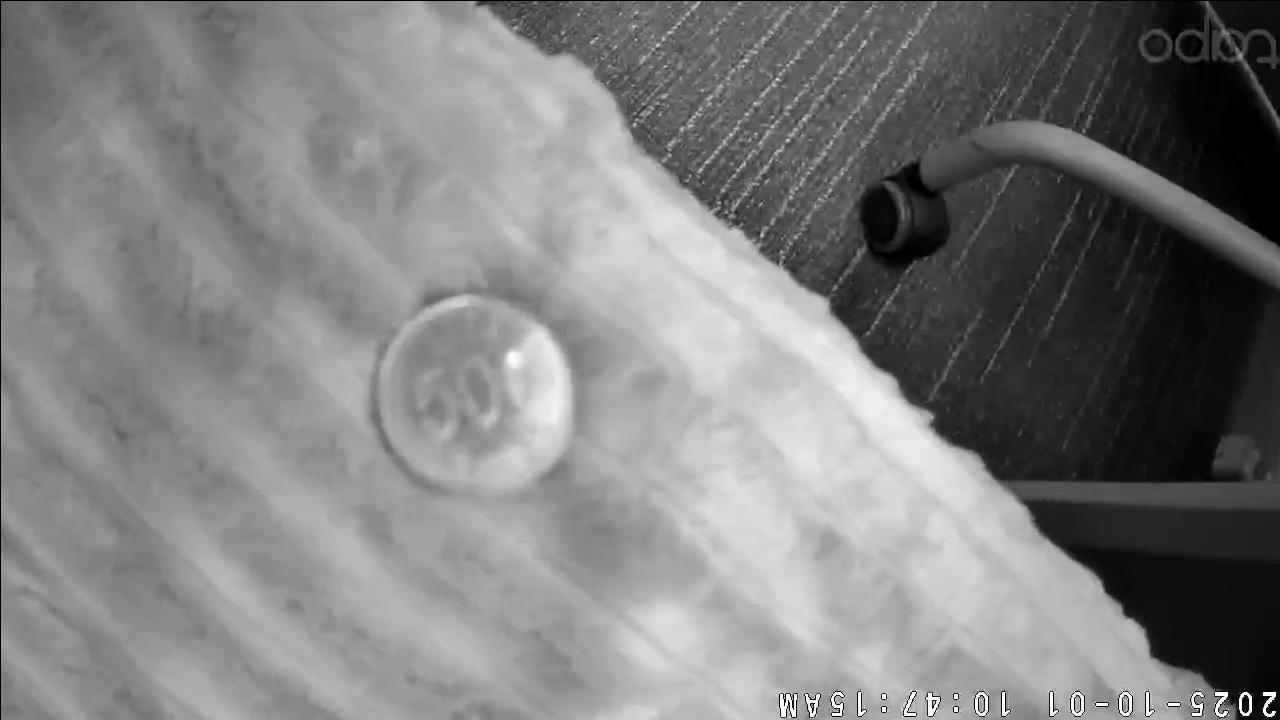coin: (371, 287, 578, 499)
